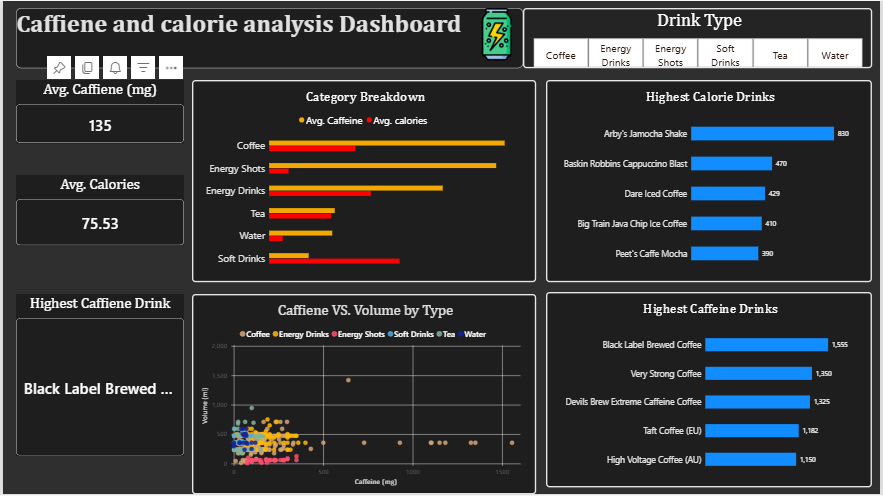

Layout of this report page (visuals, bound fields, positions):
{"tool":"powerbi","page":{"name":"Page 2","canvas":[1920,1080],"ordinal":1},"visuals":[{"type":"textbox","title":"Caffiene and calorie analysis Dashboard","box":[28.7,15.4,1110.9,132.2],"z":0},{"type":"slicer","title":"Drink Type","fields":{"Values":["caffeine.type"]},"box":[1139.5,15.4,764.8,132.2],"z":1},{"type":"cardVisual","title":"Avg. Caffiene (mg)","fields":{"Data":["caffeine.Avg. Caffeine"]},"box":[28.7,174.1,368.1,138.9],"z":2},{"type":"cardVisual","title":"Avg. Calories","fields":{"Data":["caffeine.Avg. calories"]},"box":[28.7,381.3,368.1,154.3],"z":3},{"type":"cardVisual","title":"Highest Caffiene Drink","fields":{"Data":["caffeine.Highest caffeine drink"]},"box":[28.7,641.4,368.1,354.9],"z":4},{"type":"clusteredBarChart","title":"Category Breakdown","fields":{"Category":["caffeine.type"],"Y":["caffeine.Avg. Caffeine","caffeine.Avg. calories"]},"box":[414.4,174.1,753.8,443],"z":5},{"type":"scatterChart","title":"Caffiene VS. Volume by Type ","fields":{"Series":["caffeine.type"],"X":["caffeine.Caffeine (mg)"],"Y":["caffeine.Volume (ml)"]},"box":[414.4,641.4,753.8,438.6],"z":6},{"type":"clusteredBarChart","title":"Highest Calorie Drinks","fields":{"Category":["caffeine.drink"],"Y":["caffeine.Avg. calories"]},"box":[1190.2,174.1,714.1,443],"z":7},{"type":"clusteredBarChart","title":"Highest Caffeine Drinks","fields":{"Category":["caffeine.drink"],"Y":["caffeine.Avg. Caffeine"]},"box":[1190.2,637,714.1,427.6],"z":8},{"type":"image","box":[994,15.4,174.1,114.6],"z":9}]}

Visuals, with their boxes in screenshot pixels (x1, y1, x2, y2), scaled from the page's 1920x1080 canvas onto the 883x496 screenshot:
"Caffiene and calorie analysis Dashboard" textbox: 13:7:524:68
"Drink Type" slicer: 524:7:876:68
"Avg. Caffiene (mg)" cardVisual: 13:80:182:144
"Avg. Calories" cardVisual: 13:175:182:246
"Highest Caffiene Drink" cardVisual: 13:295:182:458
"Category Breakdown" clusteredBarChart: 191:80:537:283
"Caffiene VS. Volume by Type " scatterChart: 191:295:537:495
"Highest Calorie Drinks" clusteredBarChart: 547:80:876:283
"Highest Caffeine Drinks" clusteredBarChart: 547:293:876:489
image: 457:7:537:60
